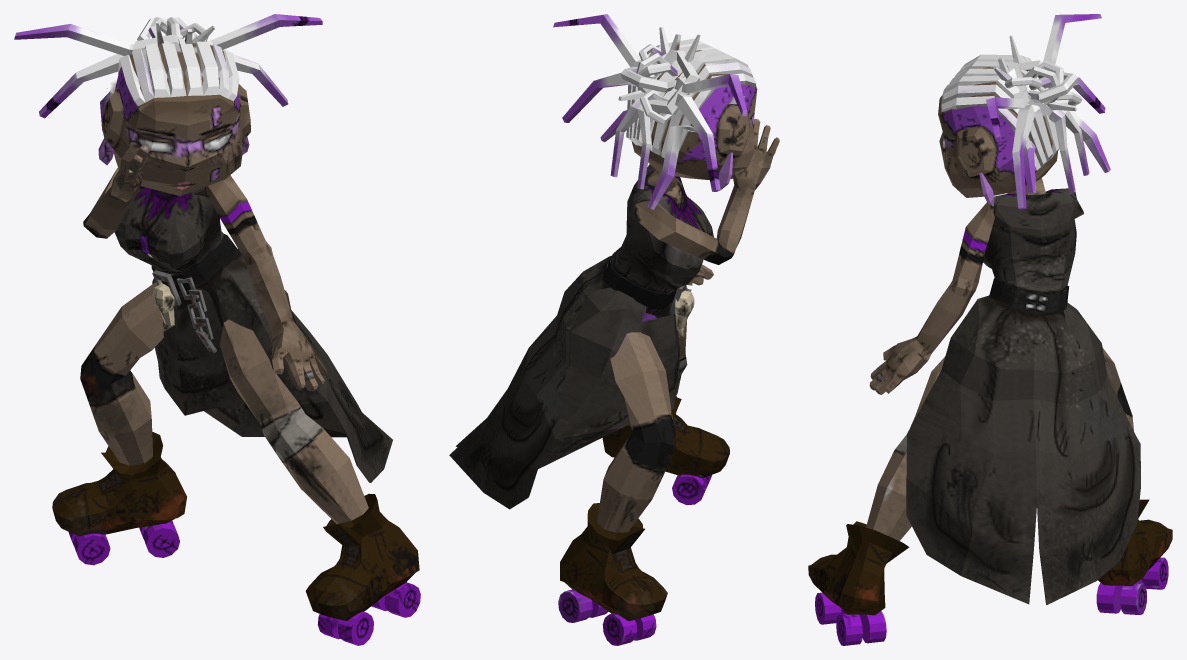
The model's file is bruja_000015.obj.
3 renders of one model, left to right at view 1: azimuth 30°, elevation 25°; view 2: azimuth 150°, elevation 25°; view 3: azimuth 270°, elevation 25°, orthographic. The views are drawn at different scales.
Parts seen in each view (by area): view 1: Bruja_Plane.001; view 2: Bruja_Plane.001; view 3: Bruja_Plane.001.
Part boxes in pixels (box(x1,y1,x2,y2)): Bruja_Plane.001: box(14, 14, 420, 645); Bruja_Plane.001: box(449, 14, 779, 645); Bruja_Plane.001: box(808, 14, 1172, 645).
Size of the model in its own units: 9.43 by 15.44 by 9.24.
